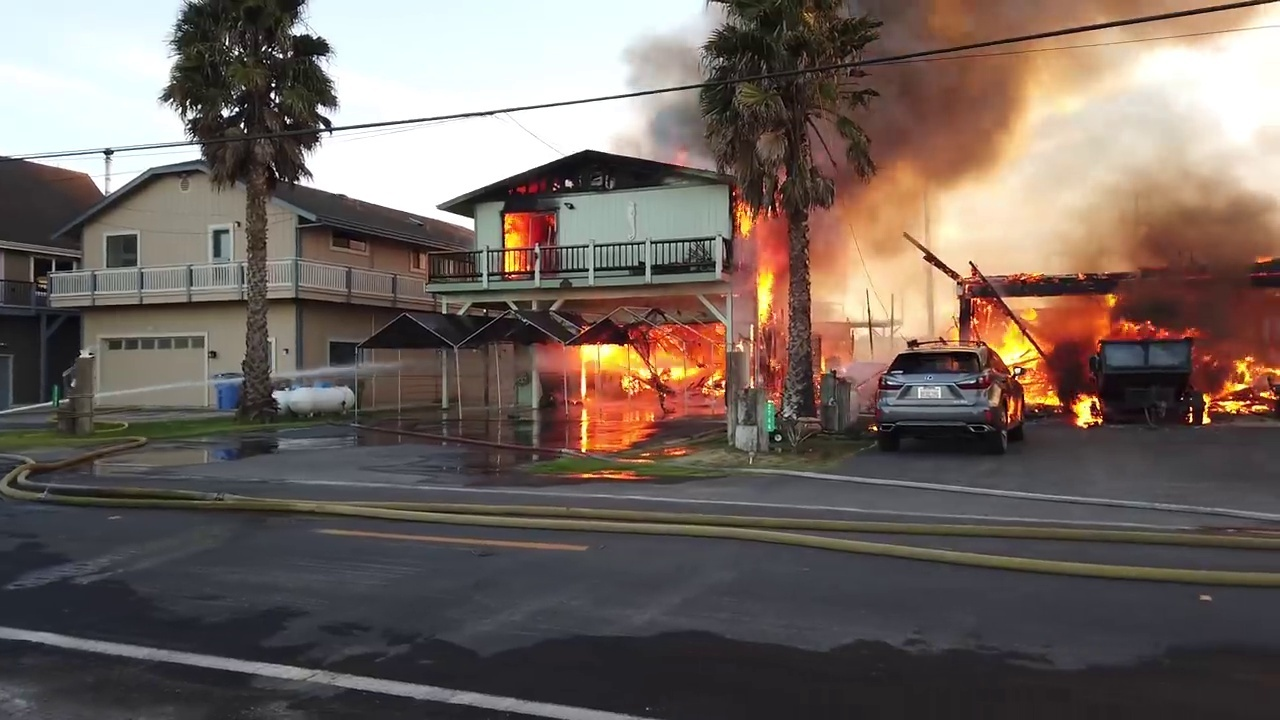fire: (726, 160, 949, 340), (566, 325, 724, 453), (1090, 291, 1197, 344), (1198, 350, 1279, 414), (502, 215, 557, 272), (989, 320, 1036, 364), (754, 251, 780, 328), (1017, 372, 1064, 407), (1064, 388, 1102, 425), (733, 188, 754, 239), (507, 179, 552, 196), (669, 145, 692, 166), (866, 422, 878, 436)
smoke: (982, 82, 1277, 306), (856, 1, 1032, 190), (1041, 5, 1280, 80), (605, 3, 720, 158), (1056, 347, 1101, 388)
